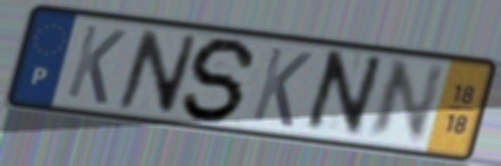K: (247, 44, 316, 131), (62, 21, 130, 109)
N: (298, 48, 388, 141), (113, 26, 202, 118), (361, 57, 450, 144)
S: (178, 35, 262, 125)
